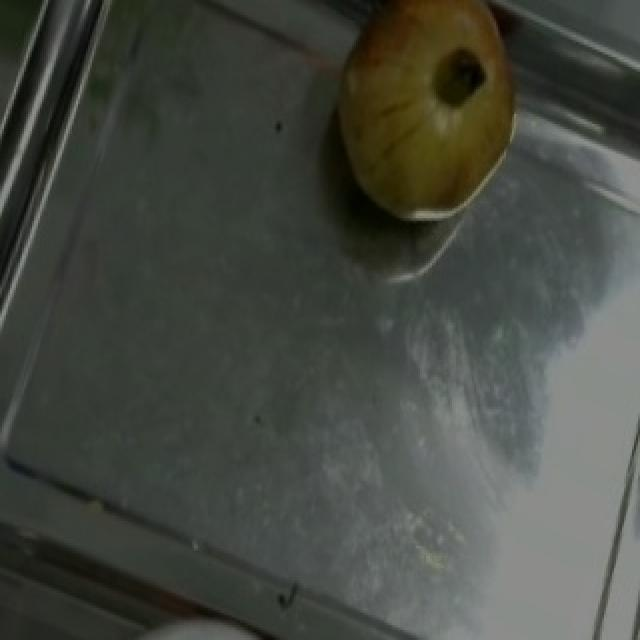fruit: (298, 0, 562, 253)
